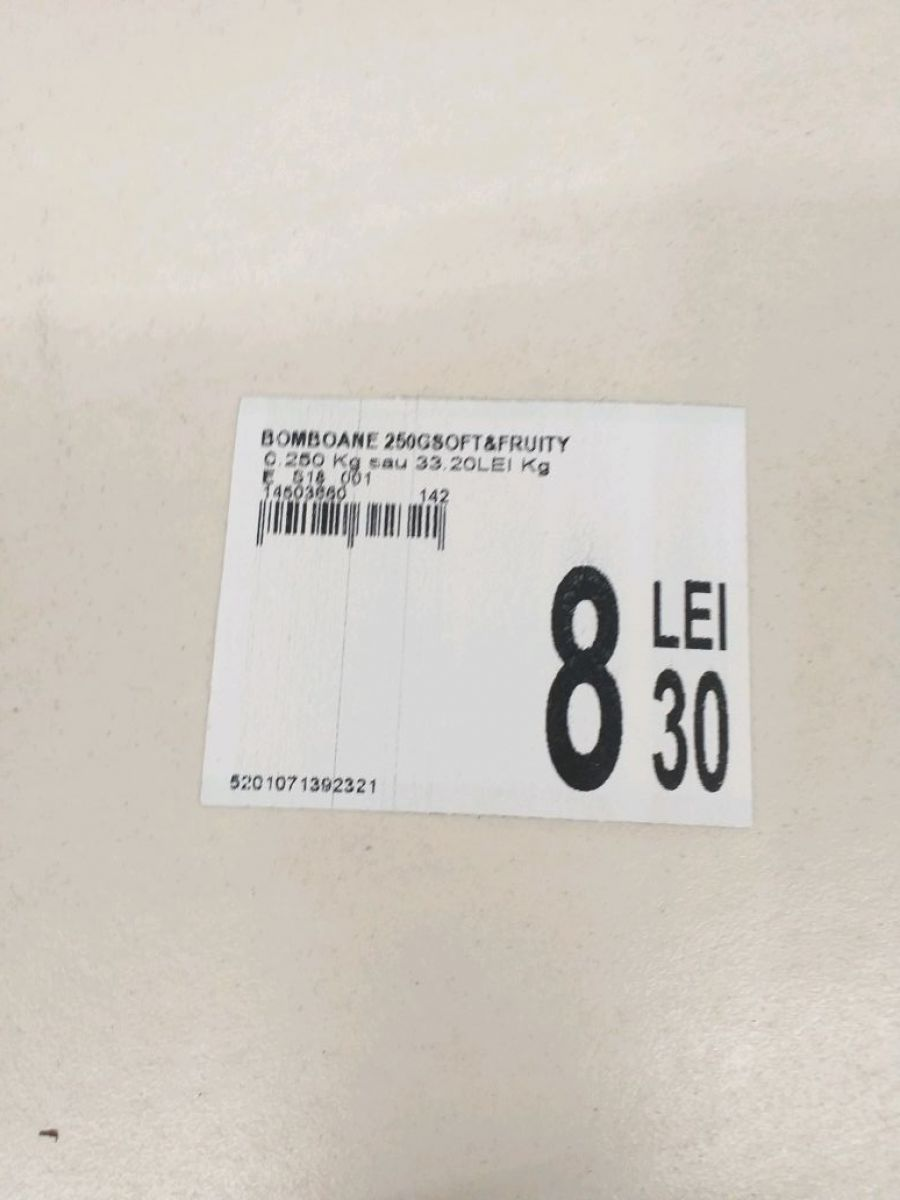bardcode: (220, 771, 388, 801)
list: (191, 391, 758, 828)
name: (253, 423, 571, 460)
price: (536, 558, 740, 799)
